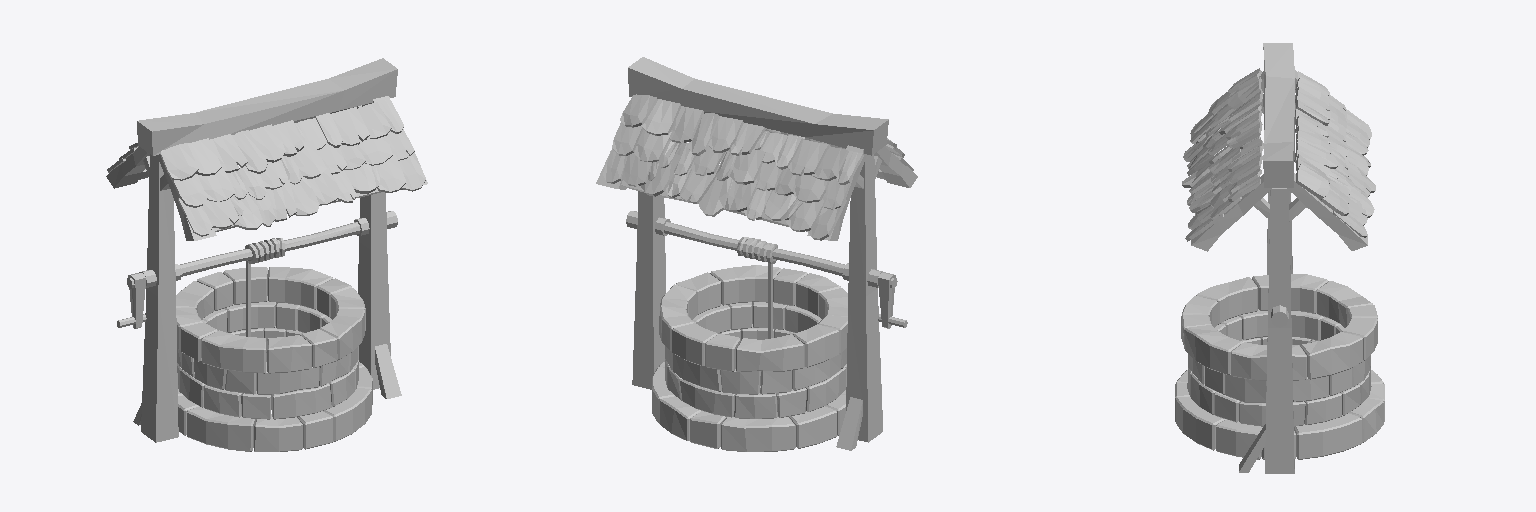
Rendered from well.obj.
3 views of the same model, side by side, from view 1: azimuth 30°, elevation 25°; view 2: azimuth 150°, elevation 25°; view 3: azimuth 270°, elevation 25° (orthographic).
Parts seen in each view (by area): view 1: Plane.001_Plane.068, Cube.003, Cube.009_Cube.010, Cube.005, Cube, Cube.002, Cube.001, Cube.004, Puits_Cylinder, Cube.007, Cube.012_Cube.013, Cylinder.007_Cylinder.010 (+1 smaller); view 2: Tuiles_Plane.048, Cube.003, Cube.009_Cube.010, Cube.005, Cube, Cube.002, Cube.004, Cube.001, Puits_Cylinder, Cube.007, Cube.011_Cube.012, Cylinder.007_Cylinder.010 (+1 smaller); view 3: Cube.003, Plane.001_Plane.068, Tuiles_Plane.048, Cube, Cube.004, Cube.002, Cube.009_Cube.010, Cube.001, Cube.008_Cube.009, Cube.012_Cube.013.
Part boxes in pixels (x1,y1,x2,y2): Plane.001_Plane.068: (160, 99, 425, 236); Cube.003: (176, 267, 365, 373); Cube.009_Cube.010: (137, 58, 397, 155); Cube.005: (141, 154, 178, 442); Cube: (178, 353, 372, 451); Cube.002: (177, 296, 358, 394); Cube.001: (177, 326, 358, 419); Cube.004: (358, 104, 390, 389); Puits_Cylinder: (179, 222, 360, 276); Cube.007: (106, 146, 216, 240); Cube.012_Cube.013: (375, 344, 401, 398); Cylinder.007_Cylinder.010: (245, 238, 284, 263); Tuiles_Plane.048: (603, 95, 863, 240); Cube.003: (659, 265, 847, 371); Cube.009_Cube.010: (628, 57, 888, 155); Cube.005: (846, 154, 882, 442); Cube: (652, 362, 845, 451); Cube.002: (665, 302, 846, 394); Cube.004: (632, 191, 665, 389); Cube.001: (665, 324, 846, 418); Puits_Cylinder: (664, 222, 844, 276); Cube.007: (807, 145, 917, 240); Cube.011_Cube.012: (836, 397, 862, 450); Cylinder.007_Cylinder.010: (737, 237, 777, 263); Cube.003: (1181, 274, 1377, 380); Plane.001_Plane.068: (1182, 68, 1263, 241); Tuiles_Plane.048: (1294, 71, 1375, 237); Cube: (1175, 370, 1384, 459); Cube.004: (1265, 188, 1294, 473); Cube.002: (1188, 309, 1370, 402); Cube.009_Cube.010: (1263, 43, 1294, 187); Cube.001: (1187, 337, 1371, 426); Cube.008_Cube.009: (1191, 173, 1367, 251); Cube.012_Cube.013: (1239, 424, 1265, 472).
Bounding box in the file's own units: 1.77 × 1.97 × 1.17.